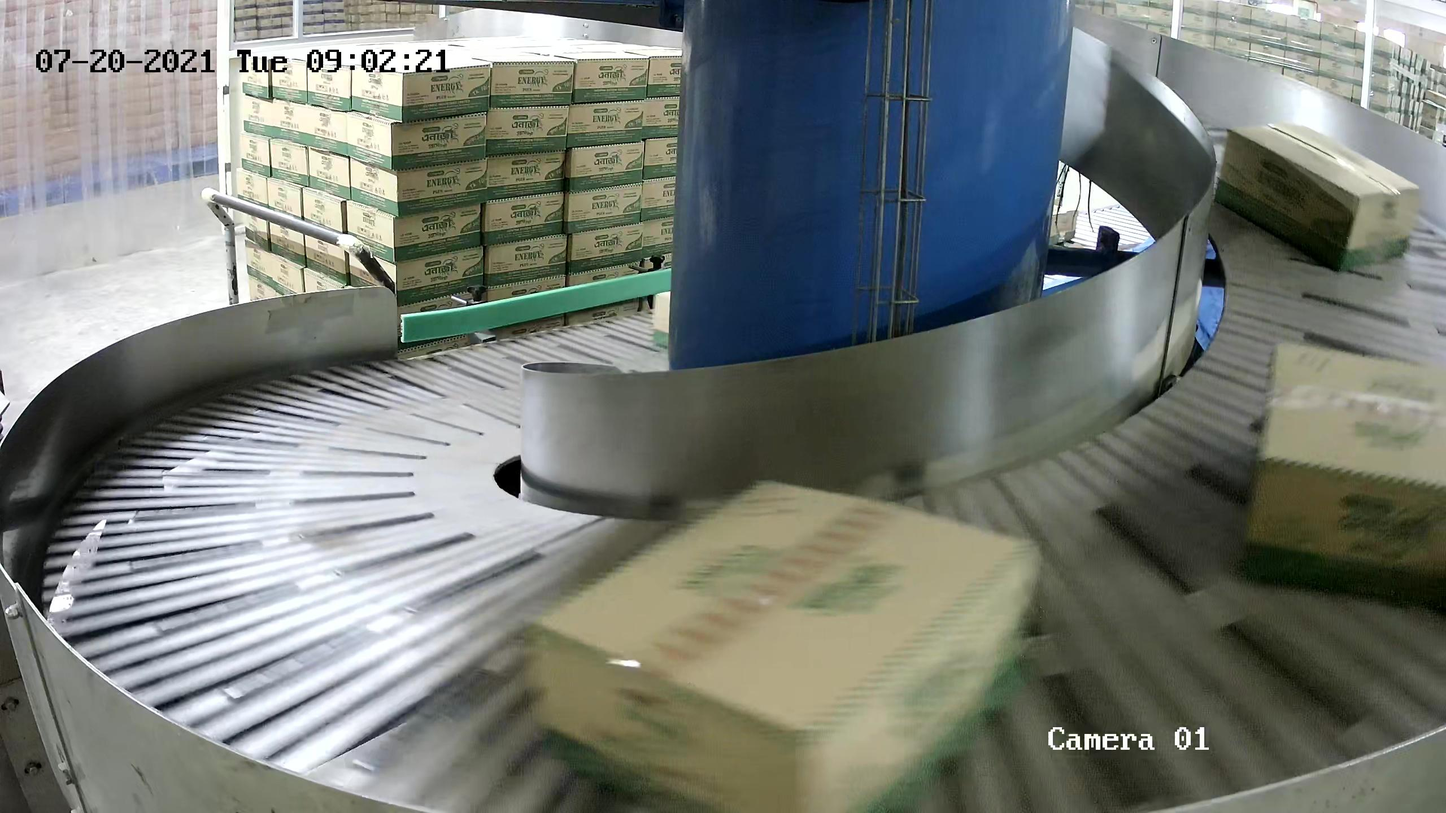Box: (526, 476, 1045, 813), (1243, 340, 1446, 599), (1213, 121, 1421, 272)
